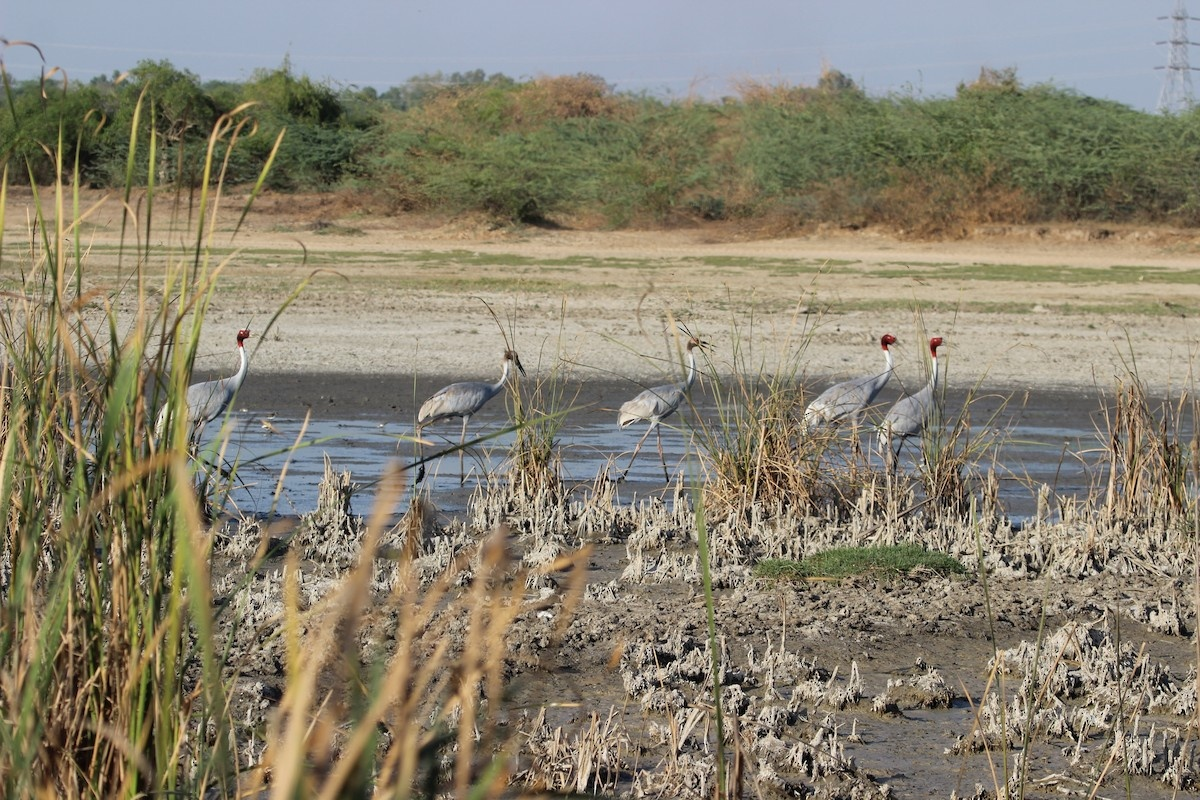crane: (802, 327, 904, 442), (882, 336, 963, 462), (223, 329, 268, 384)
